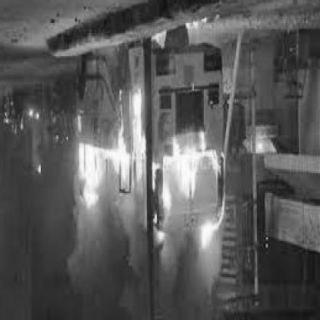Fire: (76, 85, 148, 219), (150, 130, 228, 250), (185, 18, 217, 38), (150, 32, 168, 52)
other: (247, 136, 275, 158), (26, 108, 40, 124), (36, 164, 44, 176)
